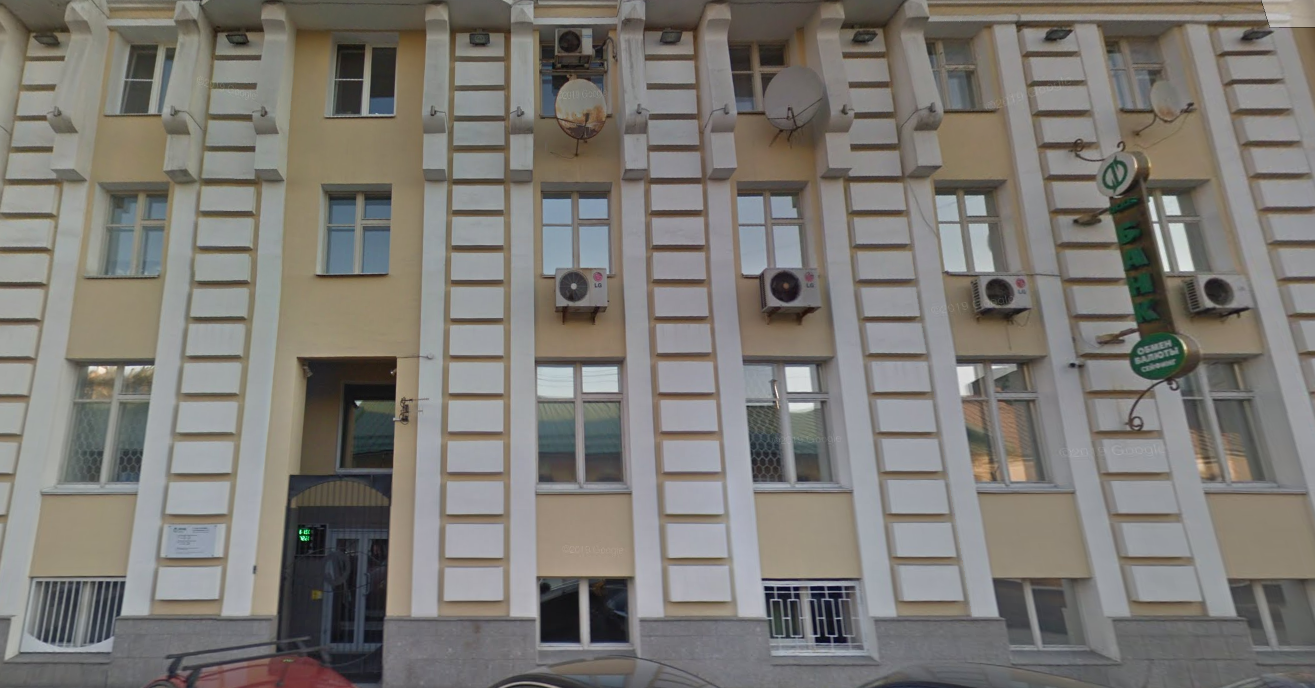cantilever: (1057, 132, 1189, 433)
window: (1184, 359, 1286, 488), (57, 358, 157, 485), (957, 363, 1055, 486), (745, 360, 836, 485), (540, 360, 624, 490), (933, 178, 1011, 279), (997, 577, 1094, 652), (538, 577, 633, 650), (99, 182, 163, 281), (317, 194, 395, 275), (325, 34, 398, 118), (738, 188, 808, 272), (545, 189, 610, 276), (921, 33, 998, 106), (1145, 187, 1213, 269), (115, 36, 172, 110), (736, 40, 784, 116)
